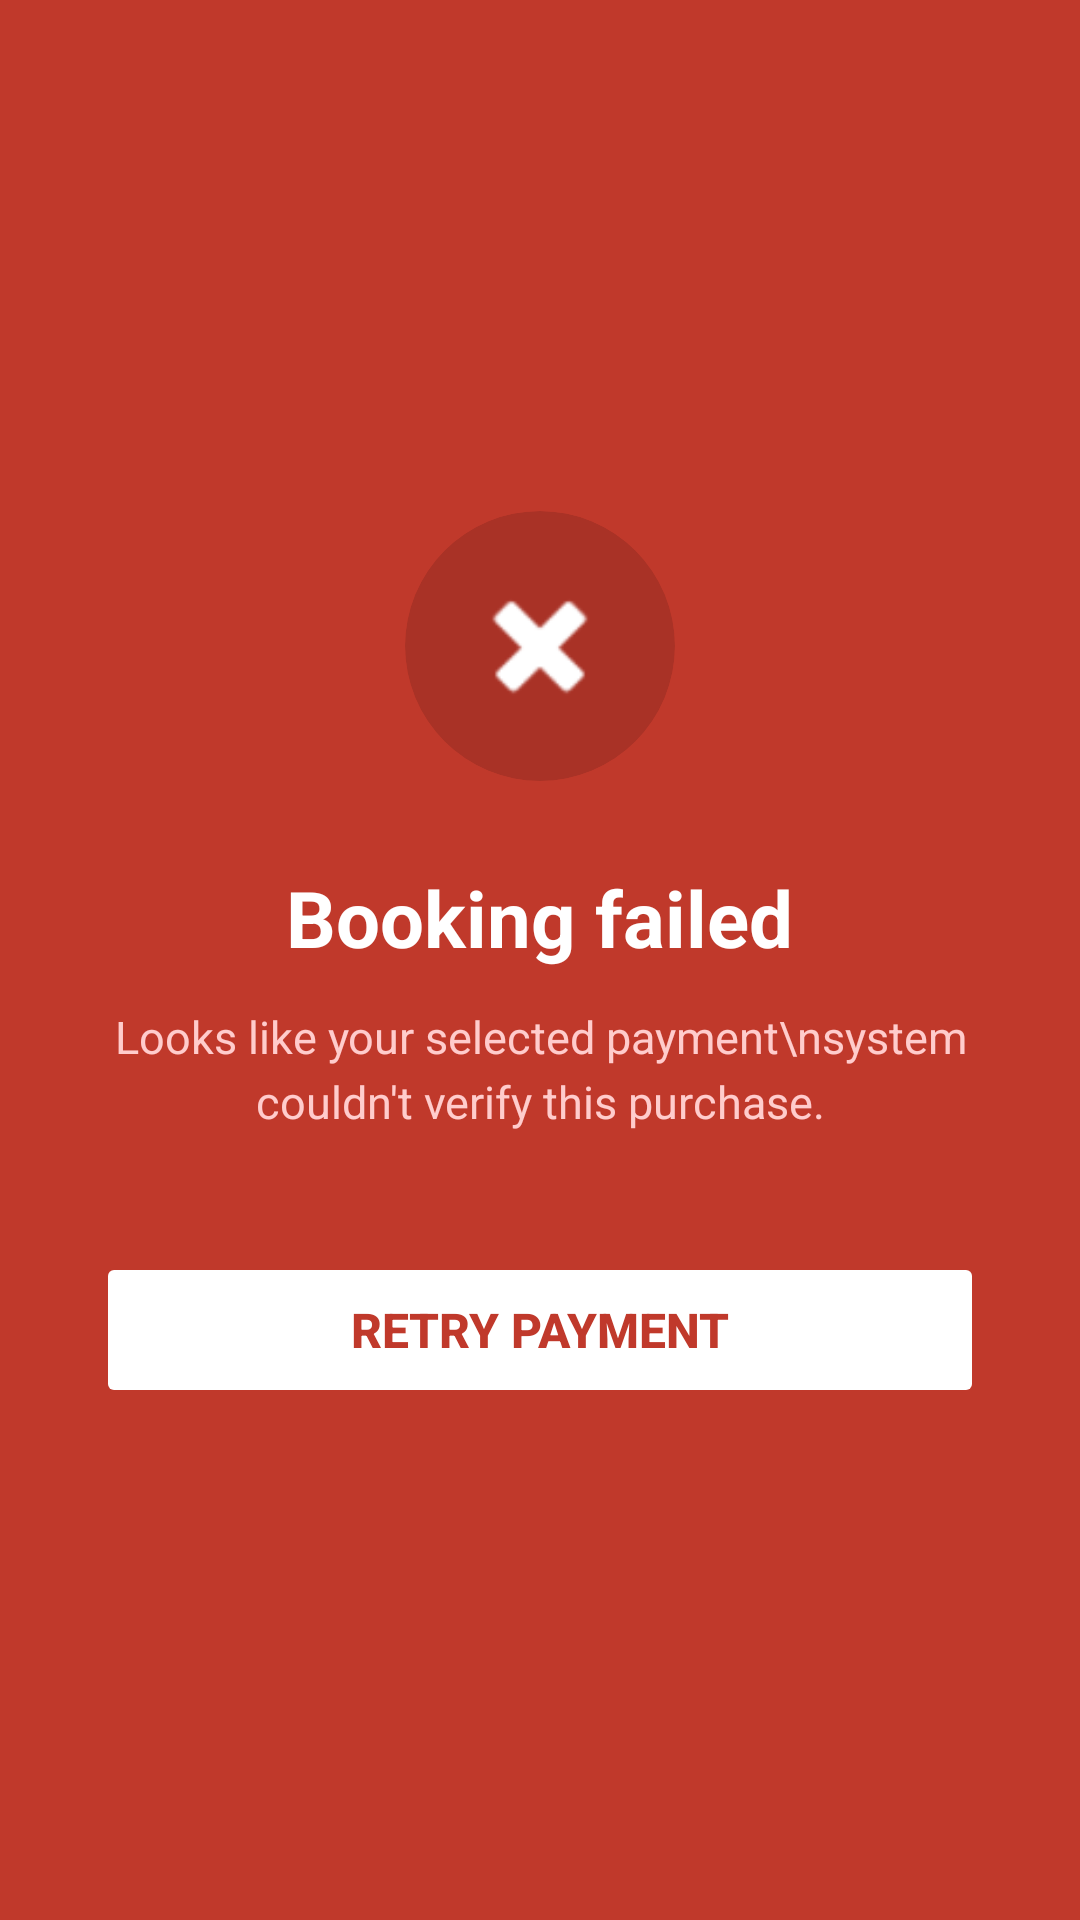

Where to tap for icons on this 1080x1920 app screen, as (x=x, y=y):
delete: (x=540, y=647)
